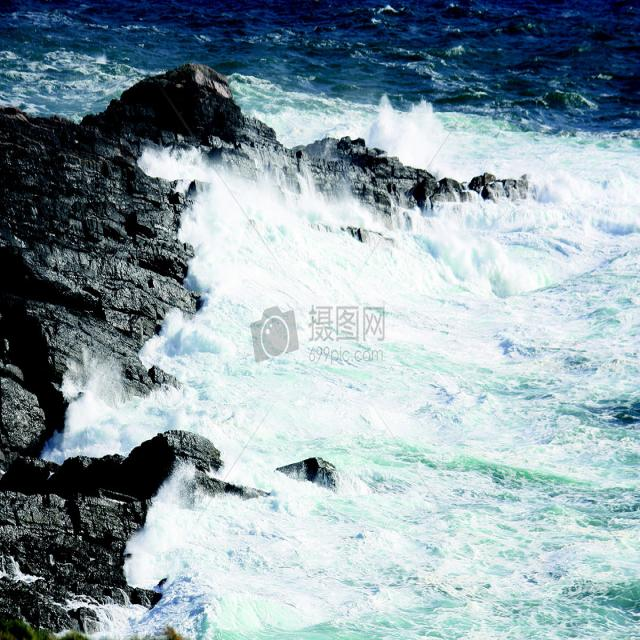reef: (17, 79, 486, 621)
